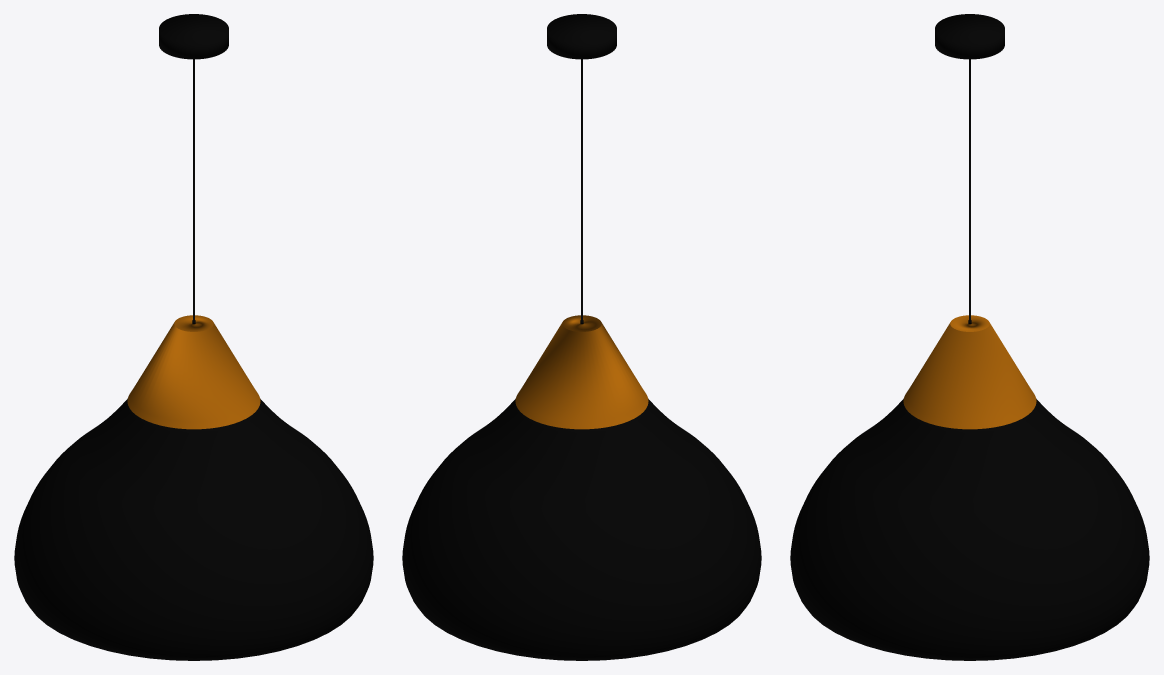
The model's file is modern_ceiling_lamp.glb.
3 renders of one model, left to right at view 1: azimuth 30°, elevation 25°; view 2: azimuth 150°, elevation 25°; view 3: azimuth 270°, elevation 25°, orthographic.
Visible parts, largest first — view 1: Object_3, Object_5, Object_2; view 2: Object_3, Object_5, Object_2; view 3: Object_3, Object_5, Object_2.
Boxes of the visible parts, left/top/right/bottom form: Object_3: left=14, top=398, right=373, bottom=660; Object_5: left=127, top=315, right=260, bottom=429; Object_2: left=159, top=14, right=228, bottom=324; Object_3: left=402, top=398, right=761, bottom=660; Object_5: left=515, top=315, right=648, bottom=429; Object_2: left=547, top=14, right=616, bottom=324; Object_3: left=790, top=398, right=1149, bottom=660; Object_5: left=903, top=315, right=1036, bottom=429; Object_2: left=935, top=14, right=1004, bottom=324.
Bounding box in the file's own units: 51.46 × 93.94 × 51.46.
Materials: 4 (4 with a texture image).
